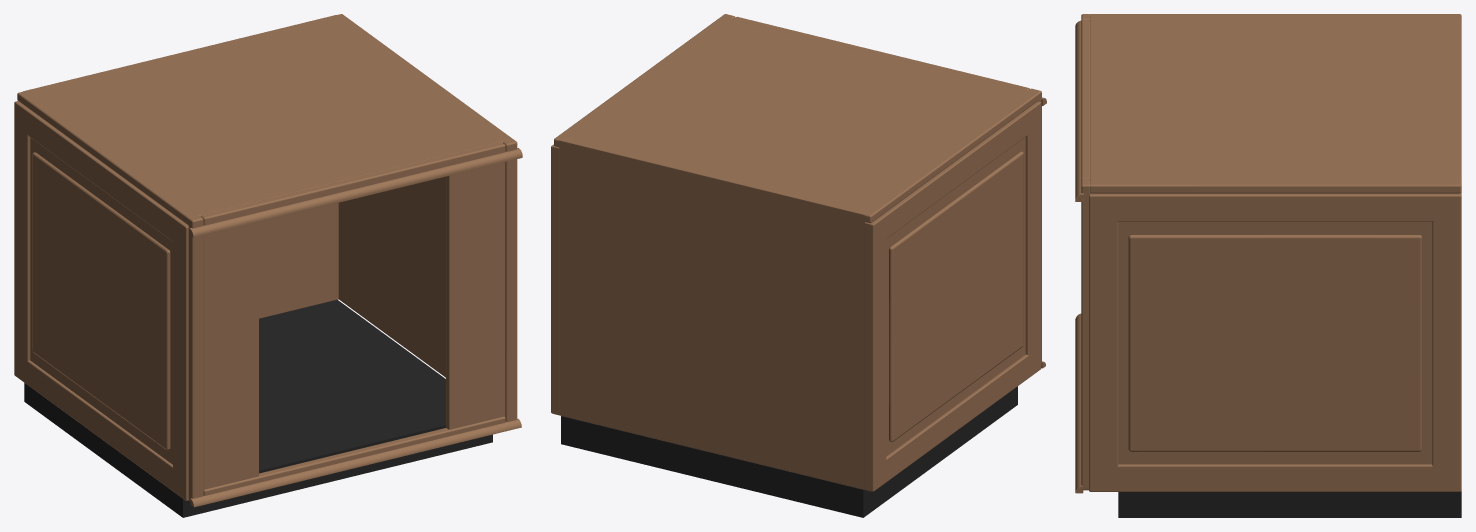
File: cab_83x76.glb
3 renders of one model, left to right at view 1: azimuth 30°, elevation 25°; view 2: azimuth 150°, elevation 25°; view 3: azimuth 270°, elevation 25°, orthographic. The views are drawn at different scales.
Visible parts, largest first — view 1: Top, Plinth, SidePanel, SideCore.001, FaceFill.001, FaceFill, Back, SideRail.001, FaceStile, SideCore, SideStile.001, SideRail (+6 smaller); view 2: Back, Top, SidePanel, Plinth, SideCore, SideStile, SideStile.001, SideRail.001, SideRail, SideCore.001, FaceTop, SideStile.003; view 3: Top, SidePanel.001, SideCore.001, SideRail.003, SideRail.002, Plinth, SideStile.003, SideStile.002, FaceStile.001, FaceTop, Cornice, BaseMould (+1 smaller).
Boxes of the visible parts, x1,y1,x2,y2 form: Top: (17, 14, 512, 225); Plinth: (24, 300, 492, 517); SidePanel: (32, 152, 170, 450); SideCore.001: (338, 176, 445, 377); FaceFill.001: (446, 162, 505, 429); FaceFill: (203, 222, 258, 489); Back: (23, 15, 338, 318); SideRail.001: (21, 106, 181, 244); FaceStile: (188, 216, 203, 500); SideCore: (18, 101, 186, 464); SideStile.001: (14, 101, 30, 380); SideRail: (21, 358, 178, 495); Back: (559, 138, 865, 489); Top: (554, 16, 1038, 223); SidePanel: (889, 151, 1023, 441); Plinth: (561, 386, 1017, 517); SideCore: (864, 103, 1034, 491); SideStile: (1025, 101, 1041, 377); SideStile.001: (870, 215, 886, 491); SideRail.001: (879, 107, 1033, 241); SideRail: (881, 354, 1028, 485); SideCore.001: (553, 146, 559, 415); FaceTop: (733, 16, 1029, 90); SideStile.003: (551, 144, 554, 413); Top: (1089, 14, 1461, 193); SidePanel.001: (1128, 235, 1422, 451); SideCore.001: (1118, 192, 1461, 464); SideRail.003: (1105, 193, 1445, 221); SideRail.002: (1105, 464, 1445, 491); Plinth: (1118, 491, 1461, 517); SideStile.003: (1432, 193, 1461, 491); SideStile.002: (1089, 193, 1118, 491); FaceStile.001: (1081, 179, 1090, 490); FaceTop: (1081, 20, 1089, 180); Cornice: (1075, 20, 1083, 201); BaseMould: (1075, 313, 1083, 493).
Size of the model in its own units: 0.849 by 0.758 by 0.788.
